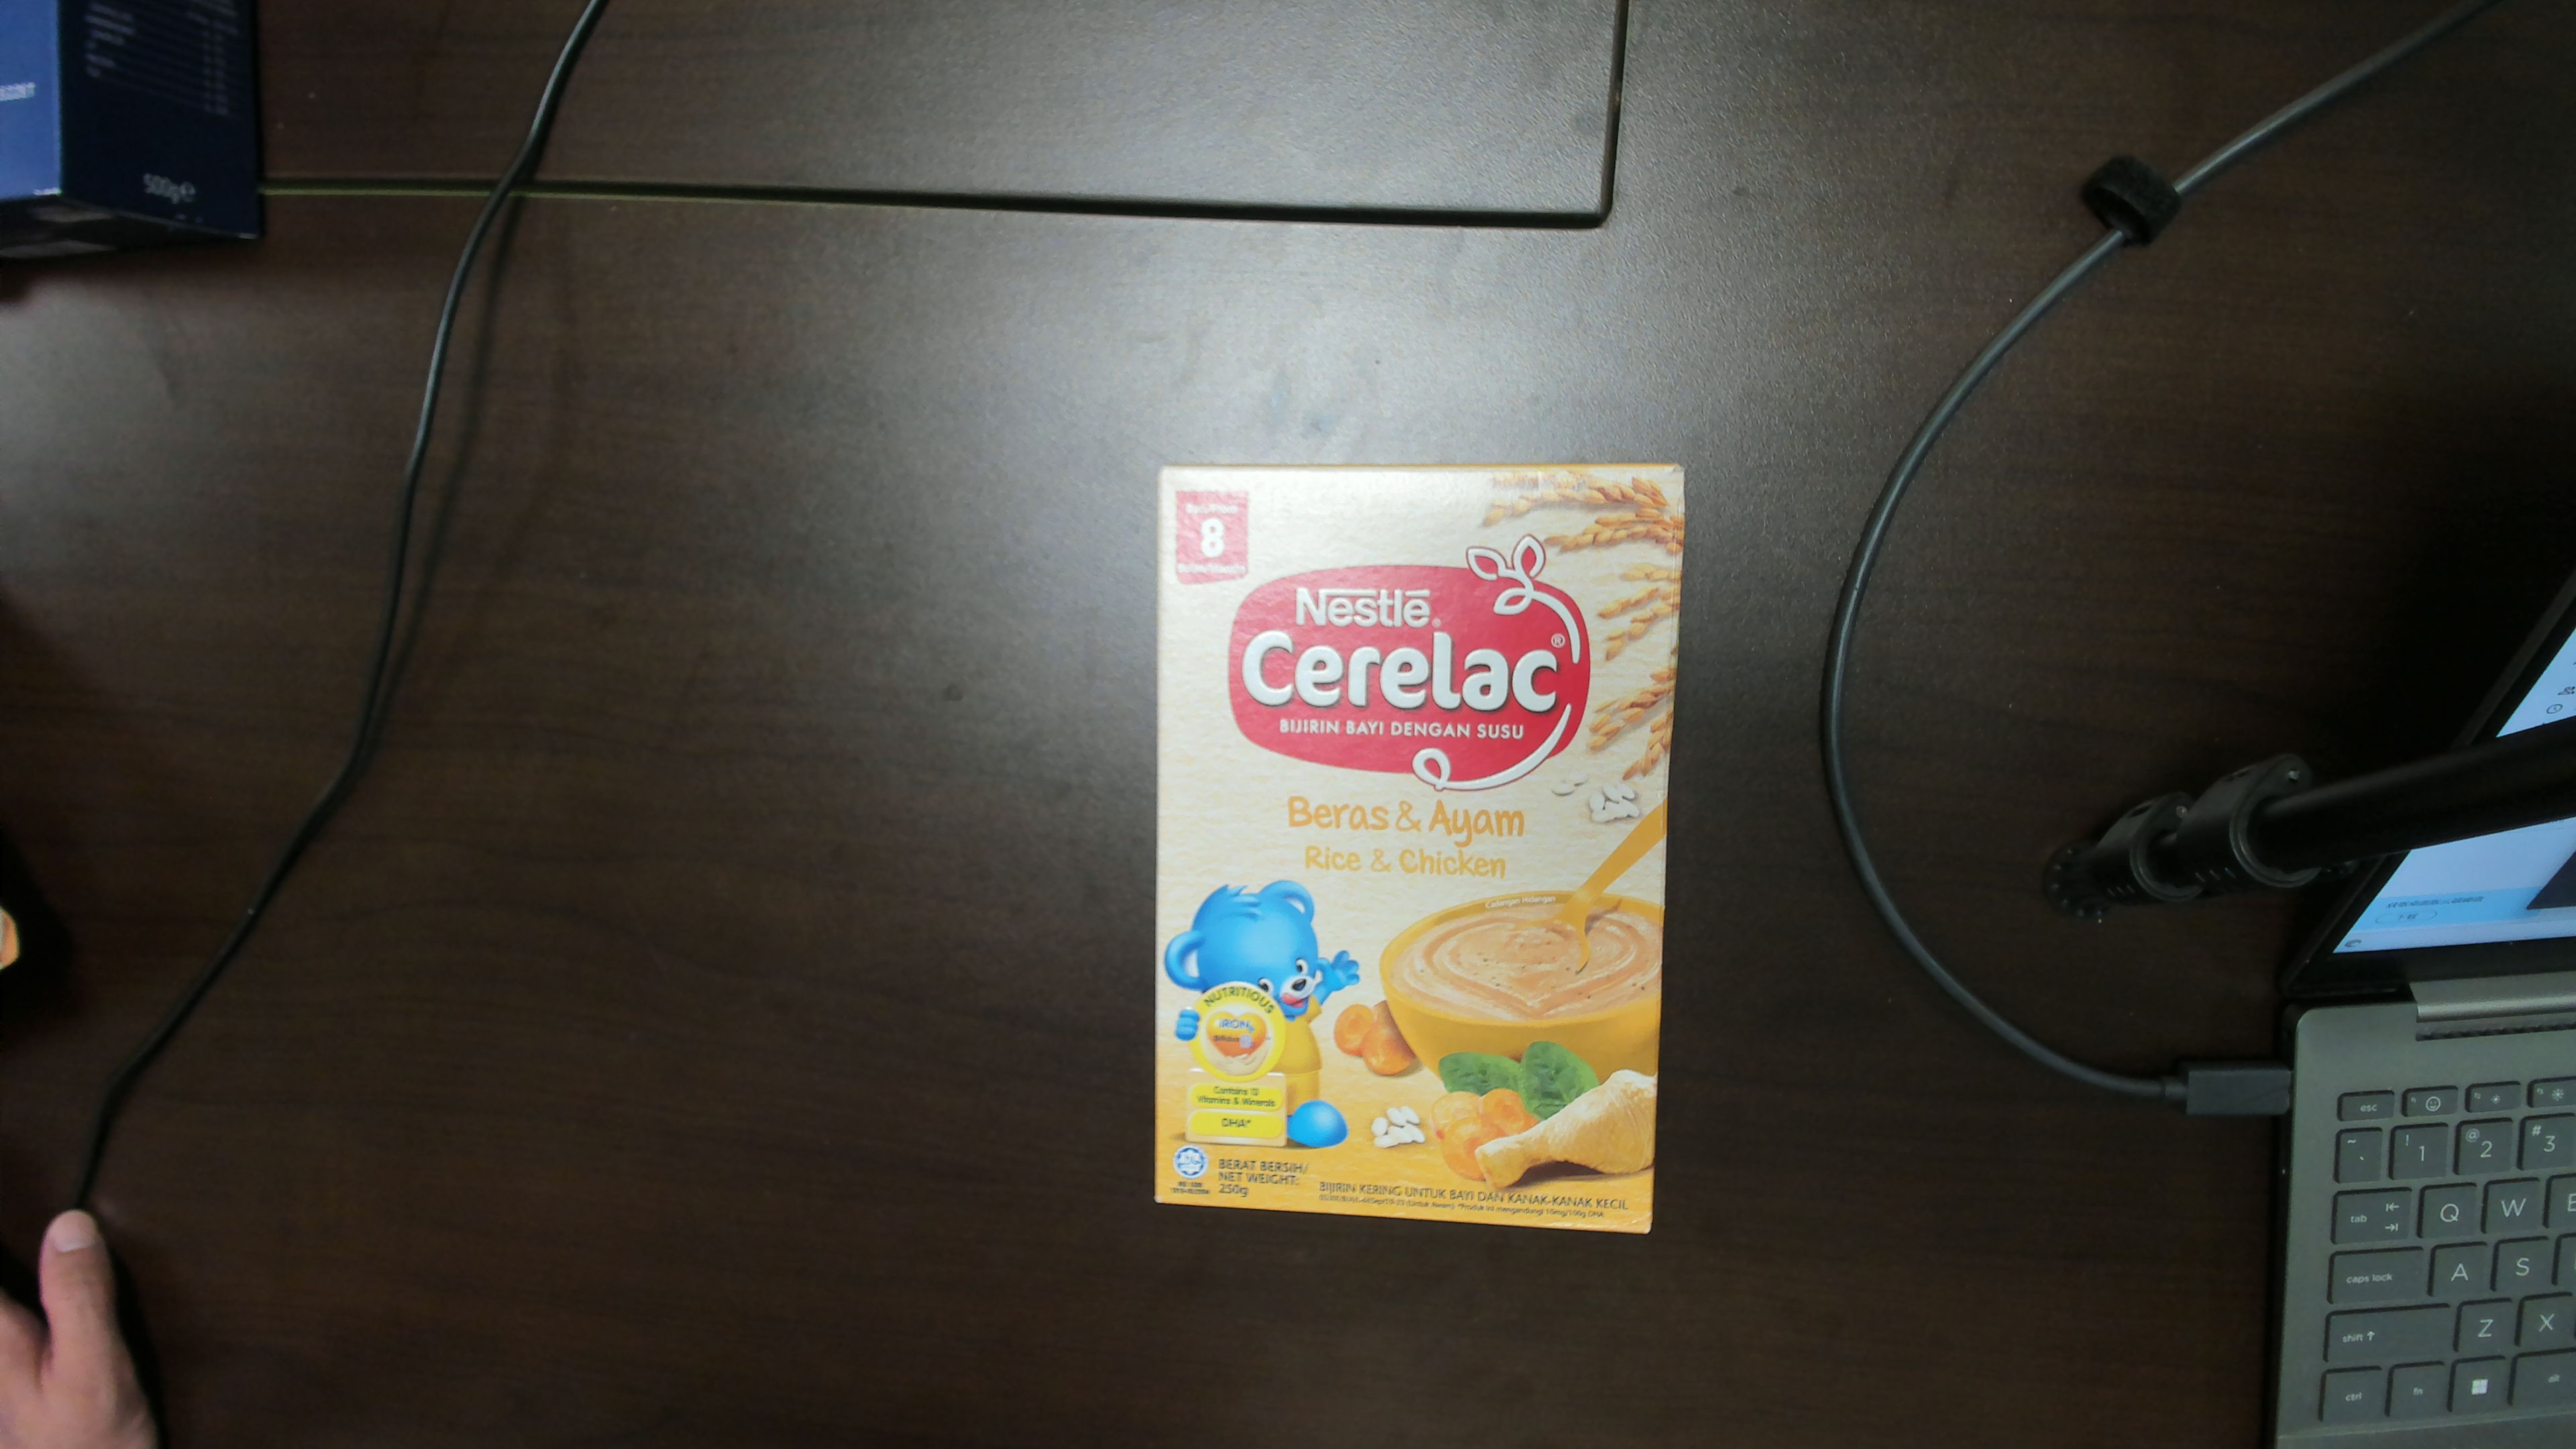Babyfood_200-299g_Halal_NonHealthy: (1171, 501, 1640, 1198)
